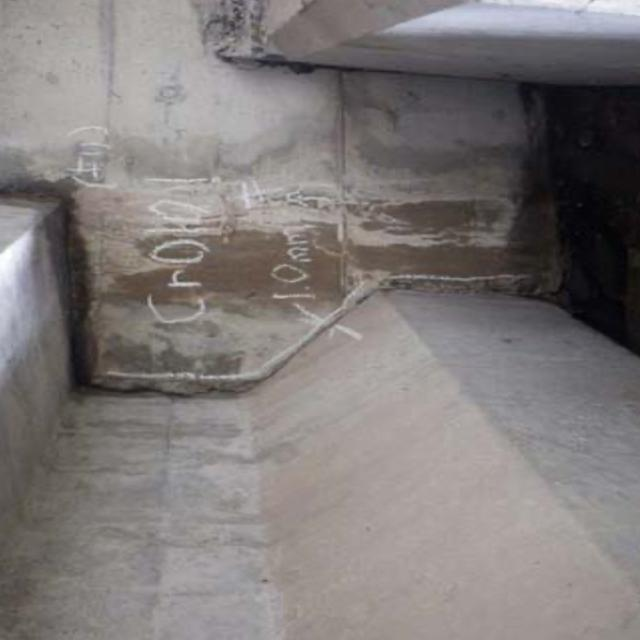crack: (56, 327, 276, 404)
